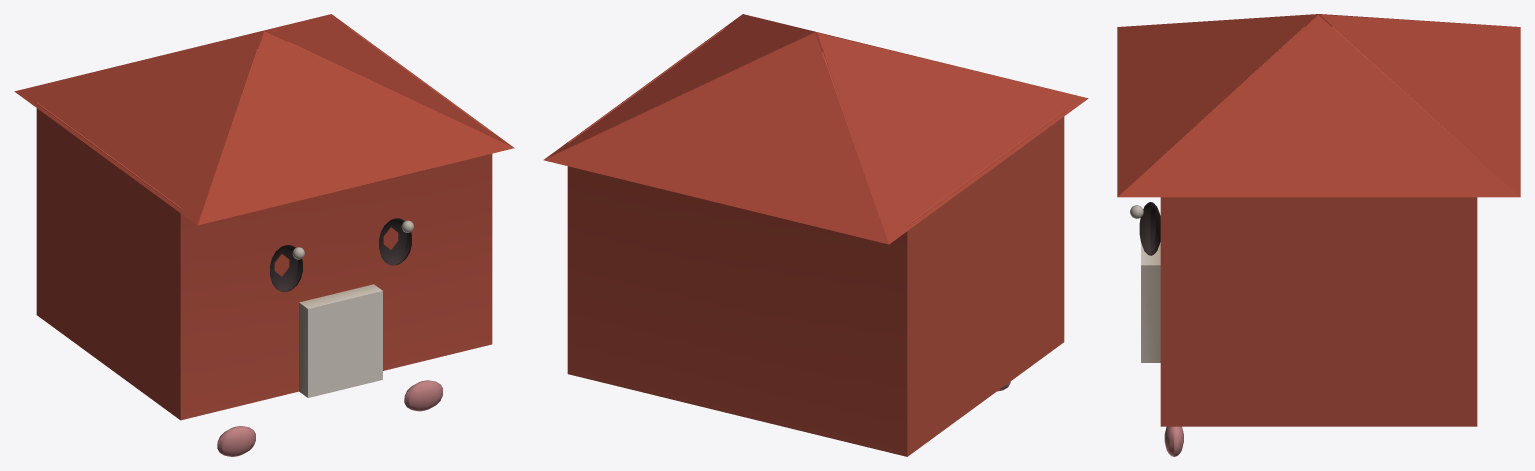
3 views of the same model, side by side, from view 1: azimuth 30°, elevation 25°; view 2: azimuth 150°, elevation 25°; view 3: azimuth 270°, elevation 25° (orthographic). The views are drawn at different scales.
Parts seen in each view (by area): view 1: pet_p7d982cd5; view 2: pet_p7d982cd5; view 3: pet_p7d982cd5.
Boxes of the visible parts, <box> form: pet_p7d982cd5: <box>14,14,514,456</box>; pet_p7d982cd5: <box>543,14,1088,456</box>; pet_p7d982cd5: <box>1117,14,1520,456</box>.
Size of the model in its own units: 0.4073 by 0.4342 by 0.4073.
